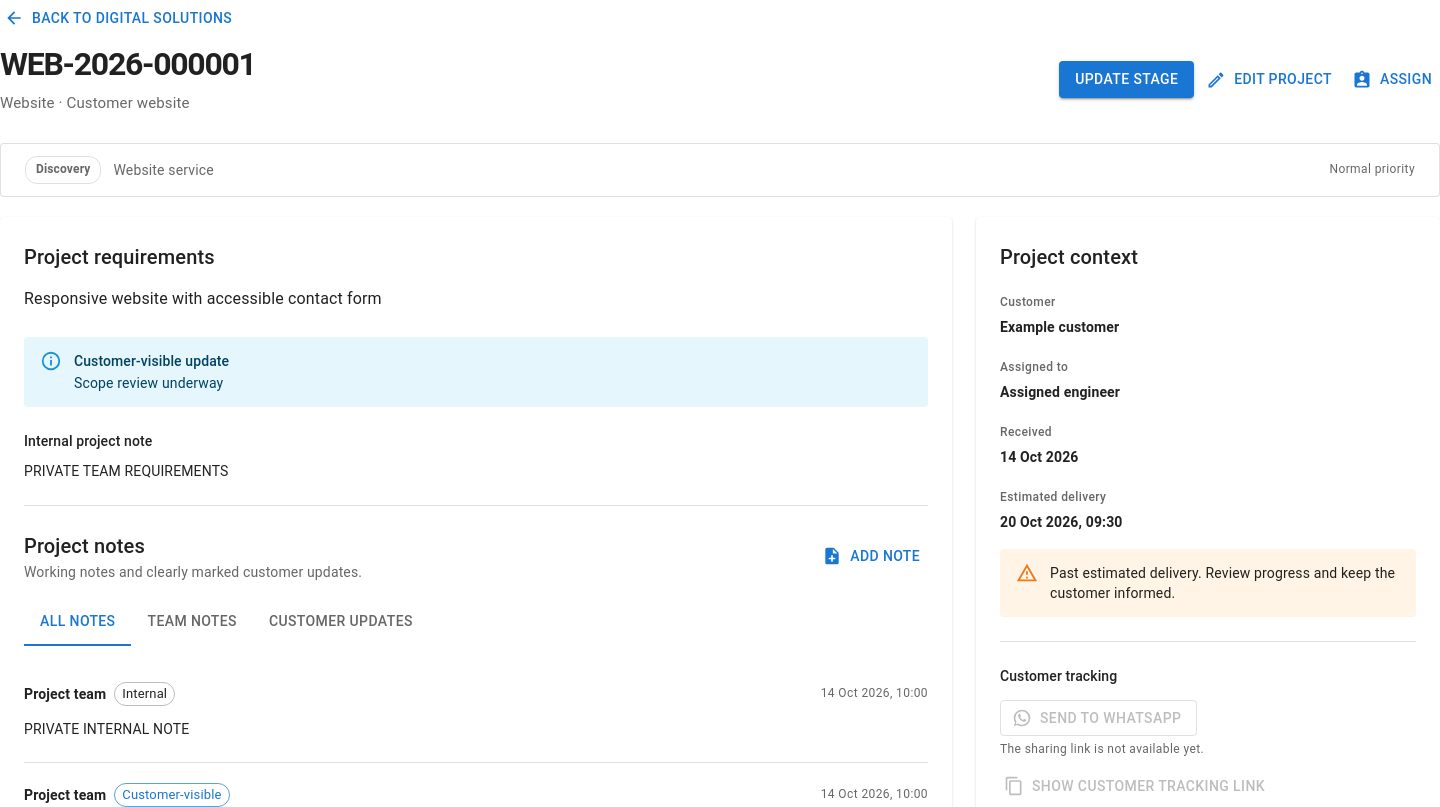
Test: digital workbench context and mutation recovery › round trips an unchanged delivery date without silently shifting its timezone
Click the button "Edit project": [1271, 80] box [1202,61,1340,98]
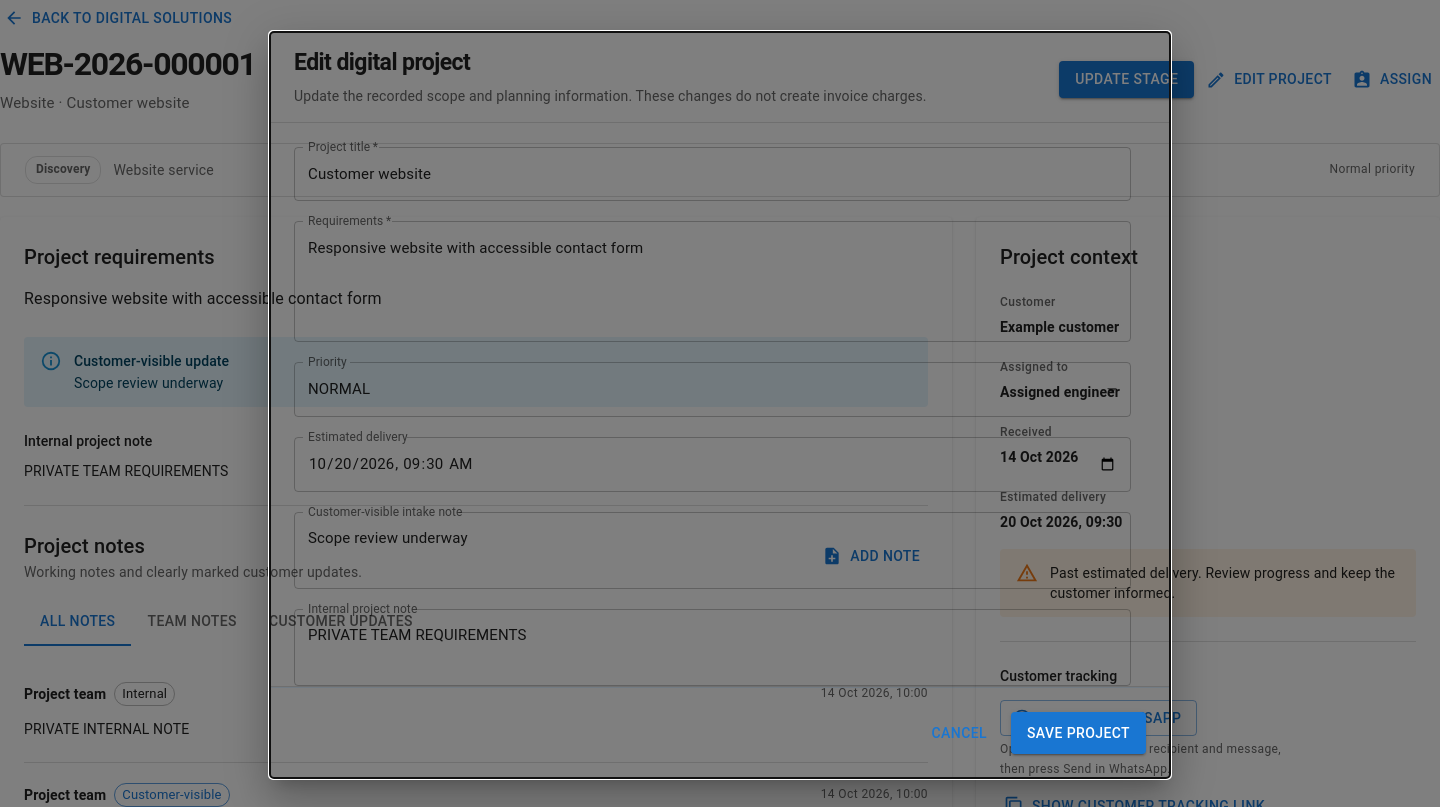
Click the button "Save project": [1078, 733] box [1011,712,1146,754]
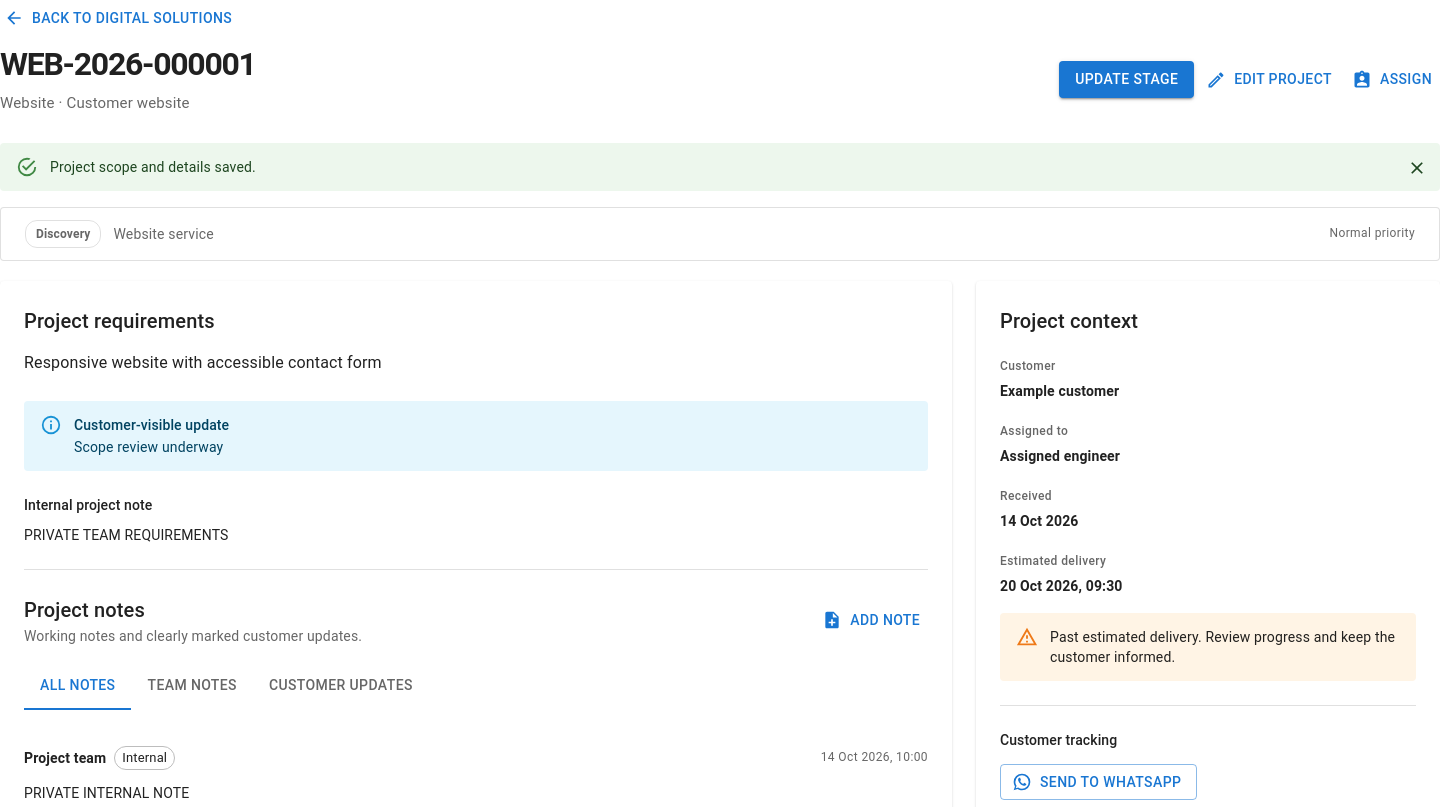
Expected: the text "Project scope and details saved." is shown, [50,159,256,175]
